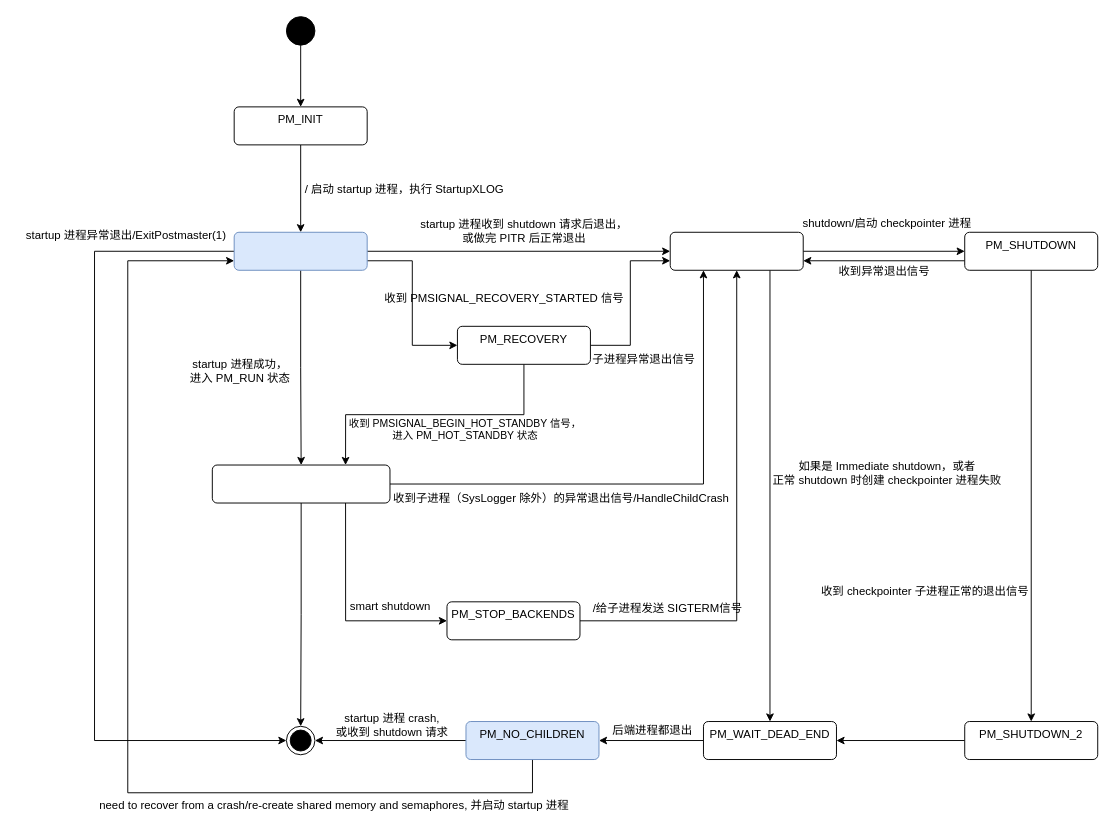
The diagram is 1114 pixels wide and 835 high, and some of its shapes have lost their labels. The box of each missing label's shape, as (x1, y1, x2, y2) in pixels:
PM_RUN / PM_HOT_STANDBY: (211, 464, 390, 503)
PM_STARTUP: (233, 231, 367, 270)
PM_WAIT_BACKENDS: (669, 231, 803, 270)
